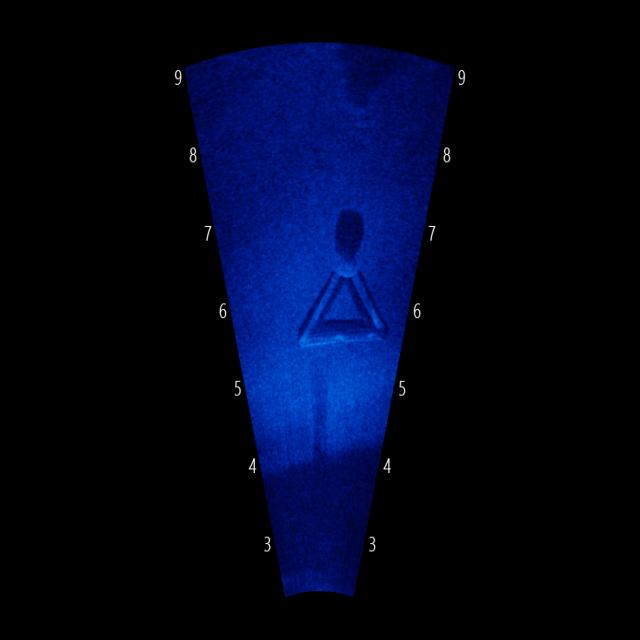triangle: (295, 231, 399, 358)
